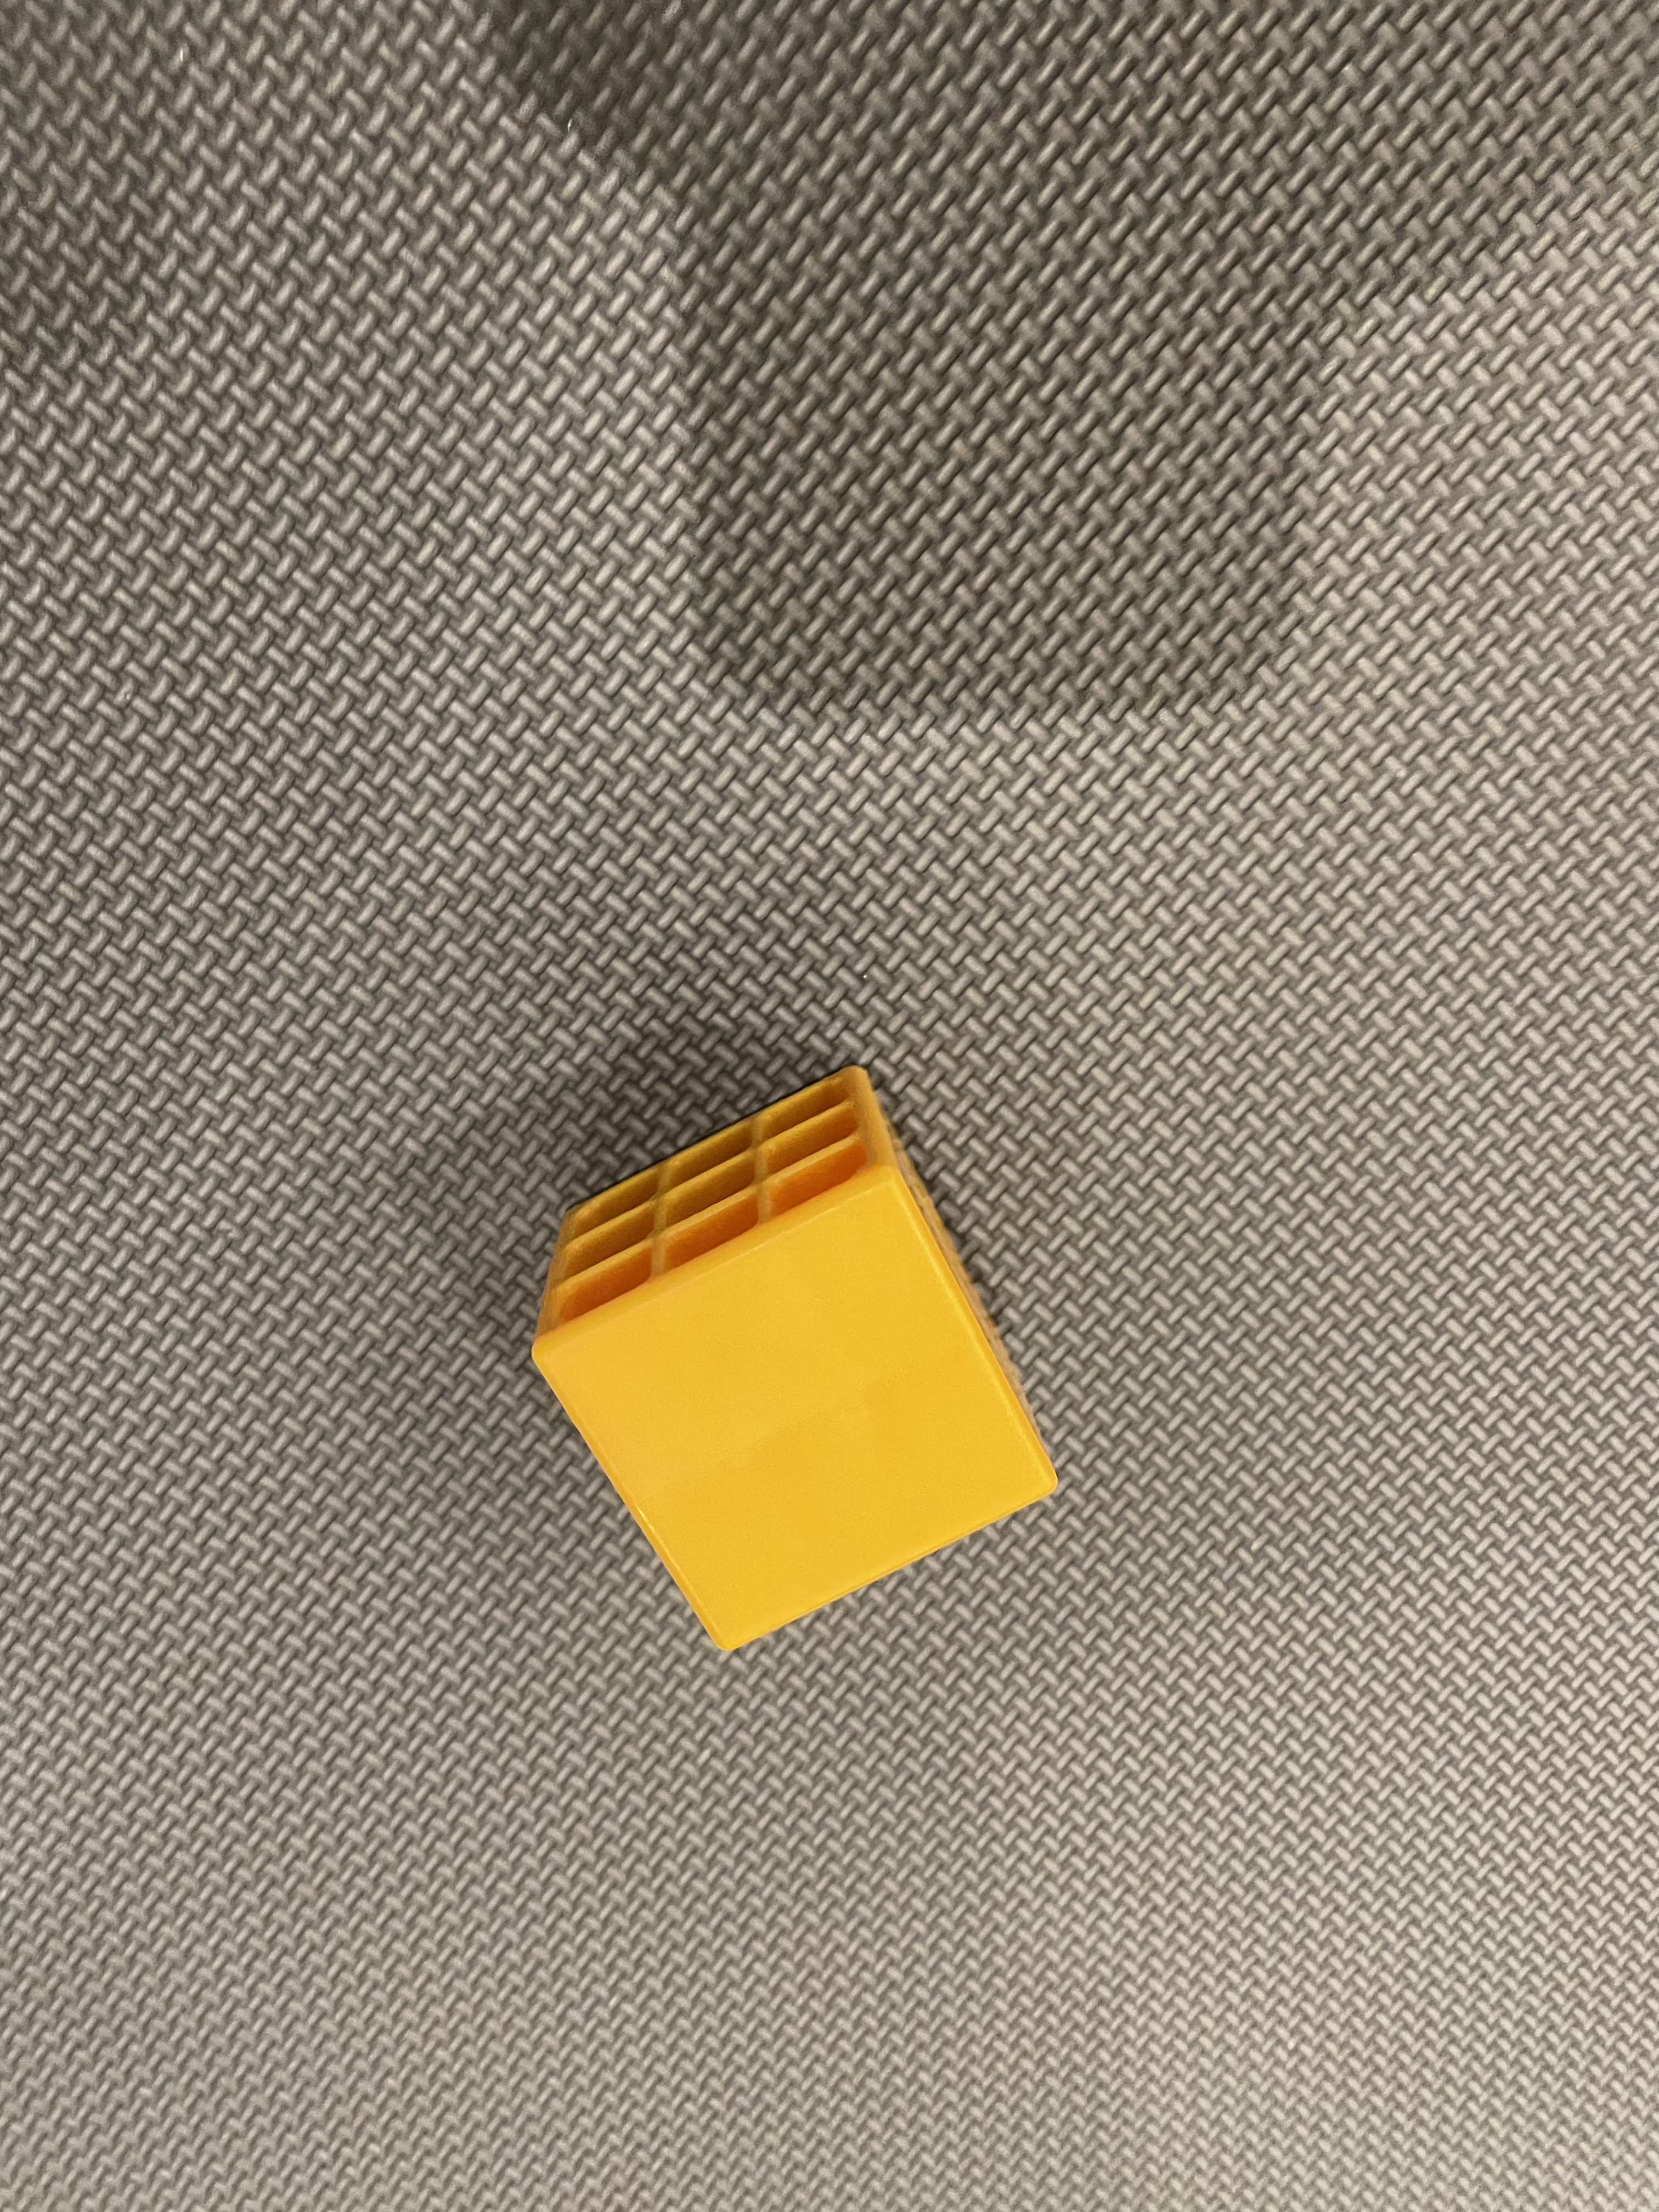cube: (472, 1033, 1110, 1719)
